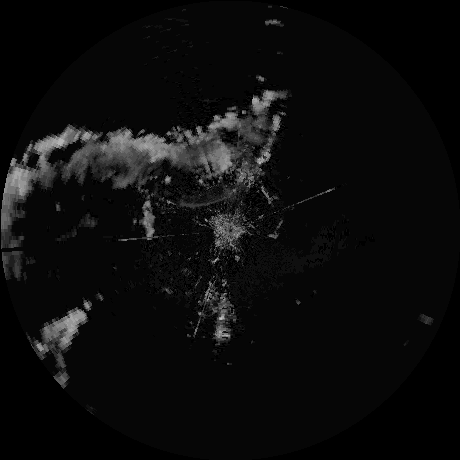frontgust: (177, 188, 239, 209)
